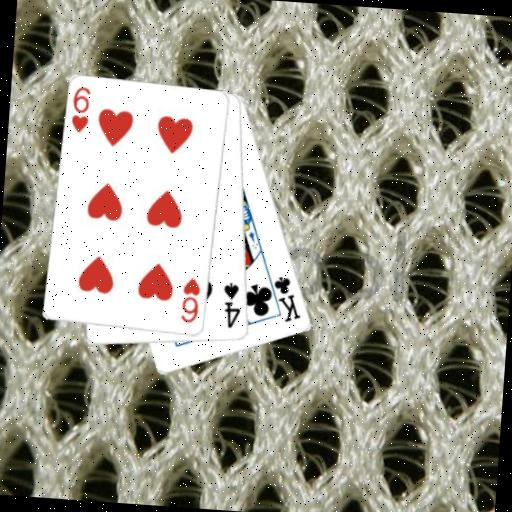4S: (218, 280, 244, 331)
6H: (68, 84, 93, 136), (179, 275, 204, 326)
KC: (261, 272, 305, 325)
